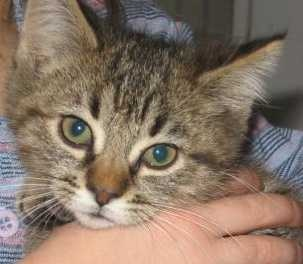Cat: (7, 0, 261, 228)
